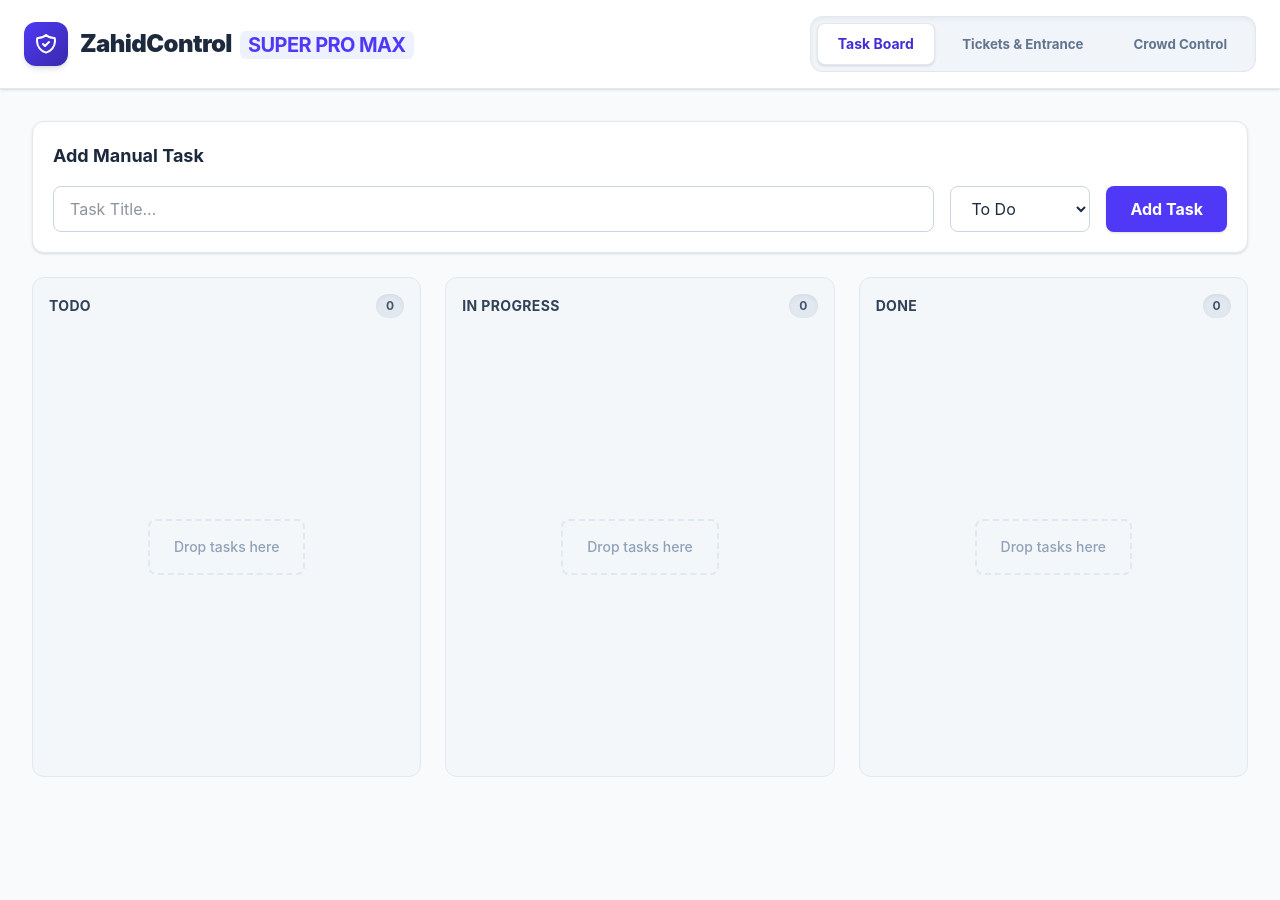
Test: App Component › allows adding a manual task
The width and height of the screenshot is (1280, 900).
In the field with placeholder "Task Title...": x=494, y=209 [53,186,934,232], type "Test New Task"
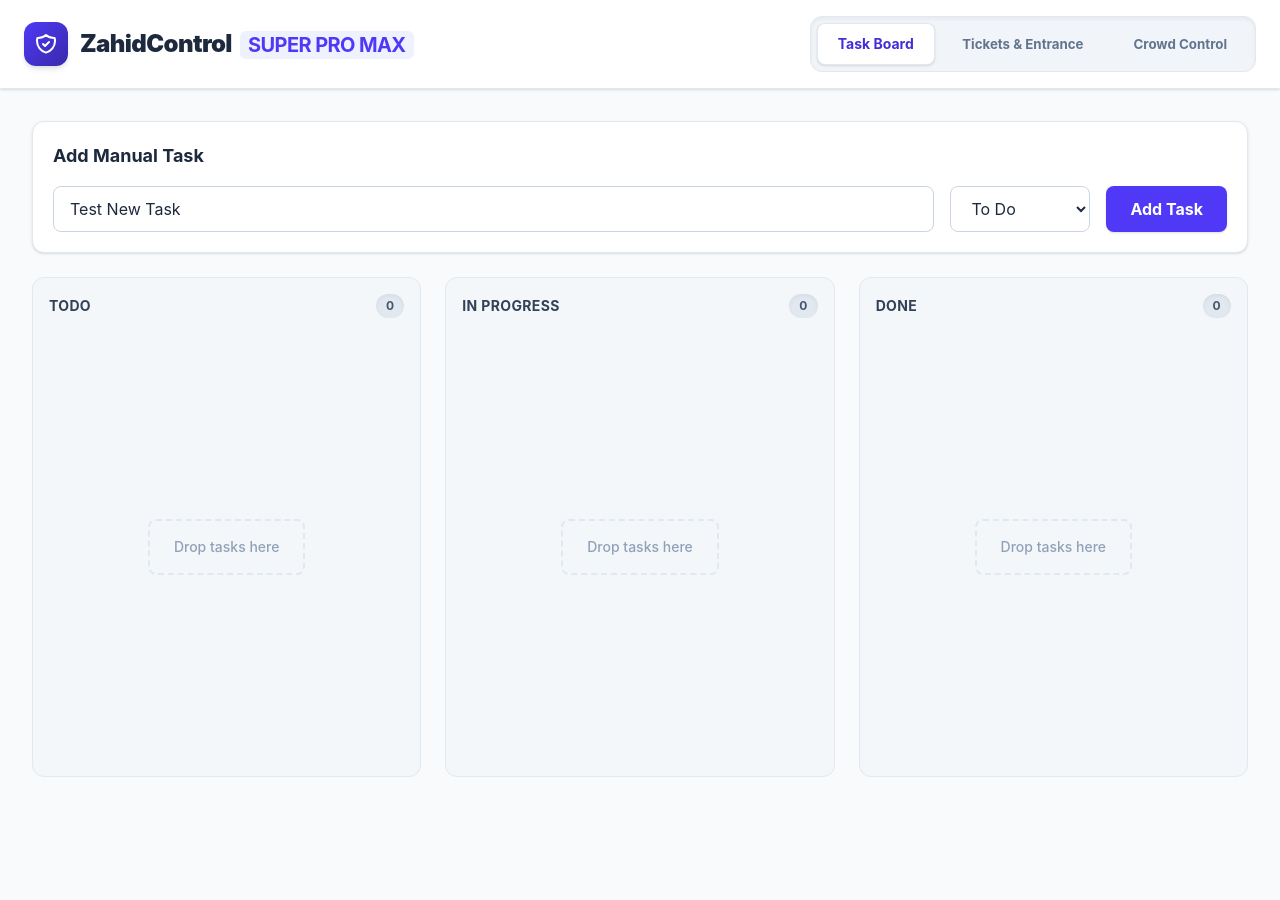
Click the button "Add Task": x=1167, y=209 [1106,186,1227,232]
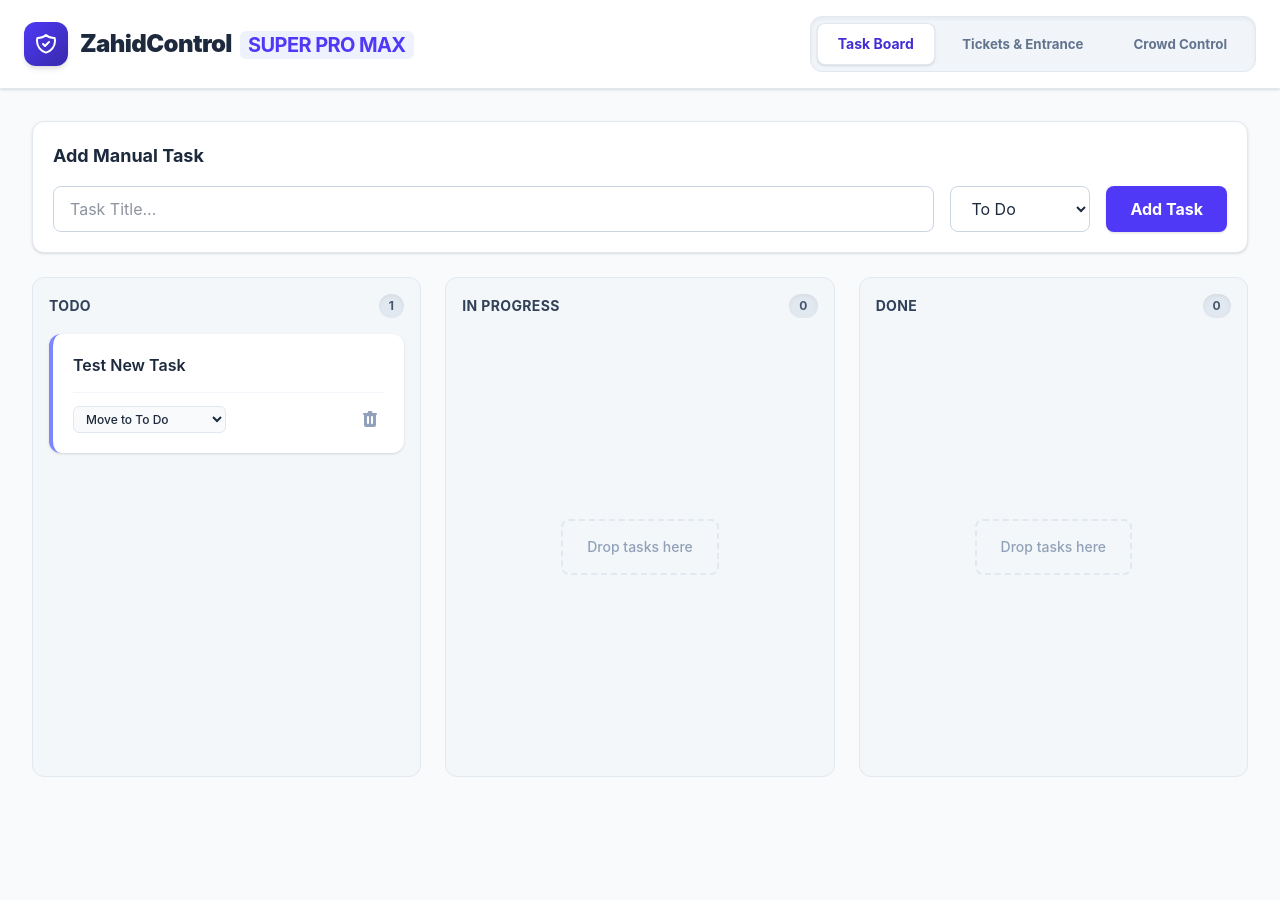
Result: the text "Test New Task" is shown at [73,355,186,375]
Result: the field with placeholder "Task Title..." is empty at [53,186,934,232]
